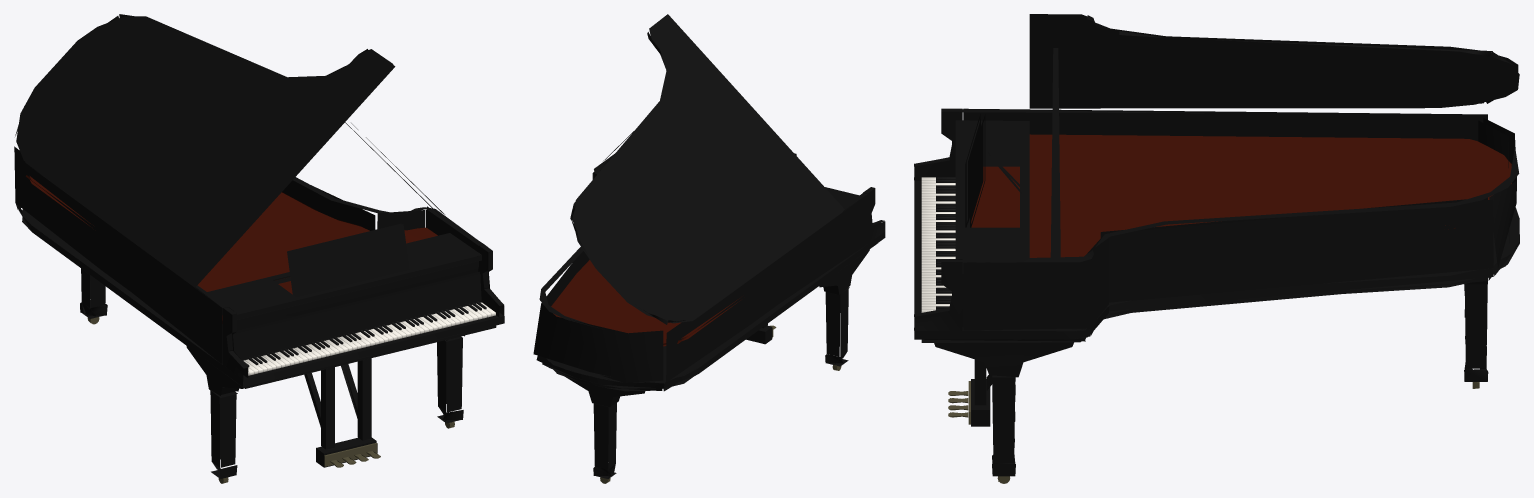
The model's file is piano.glb.
3 renders of one model, left to right at view 1: azimuth 30°, elevation 25°; view 2: azimuth 150°, elevation 25°; view 3: azimuth 270°, elevation 25°, orthographic. The views are drawn at different scales.
Visible parts, largest first — view 1: Piano.001; view 2: Piano.001; view 3: Piano.001.
Part boxes in pixels (left/top/right/bottom): Piano.001: left=14, top=14, right=504, bottom=483; Piano.001: left=533, top=14, right=885, bottom=483; Piano.001: left=914, top=14, right=1519, bottom=483.
Size of the model in its own units: 1.52 by 2.02 by 2.51.
